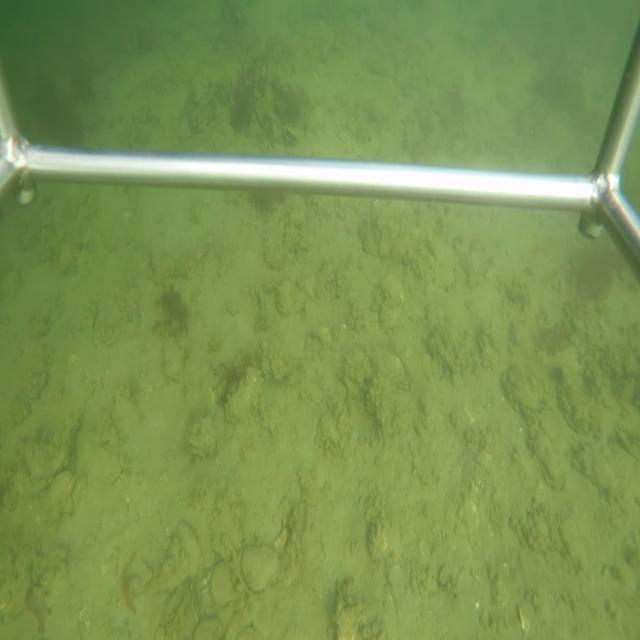Oyster-Closed: (500, 359, 550, 415)
Oyster-Open: (525, 418, 565, 492), (234, 540, 280, 601)
